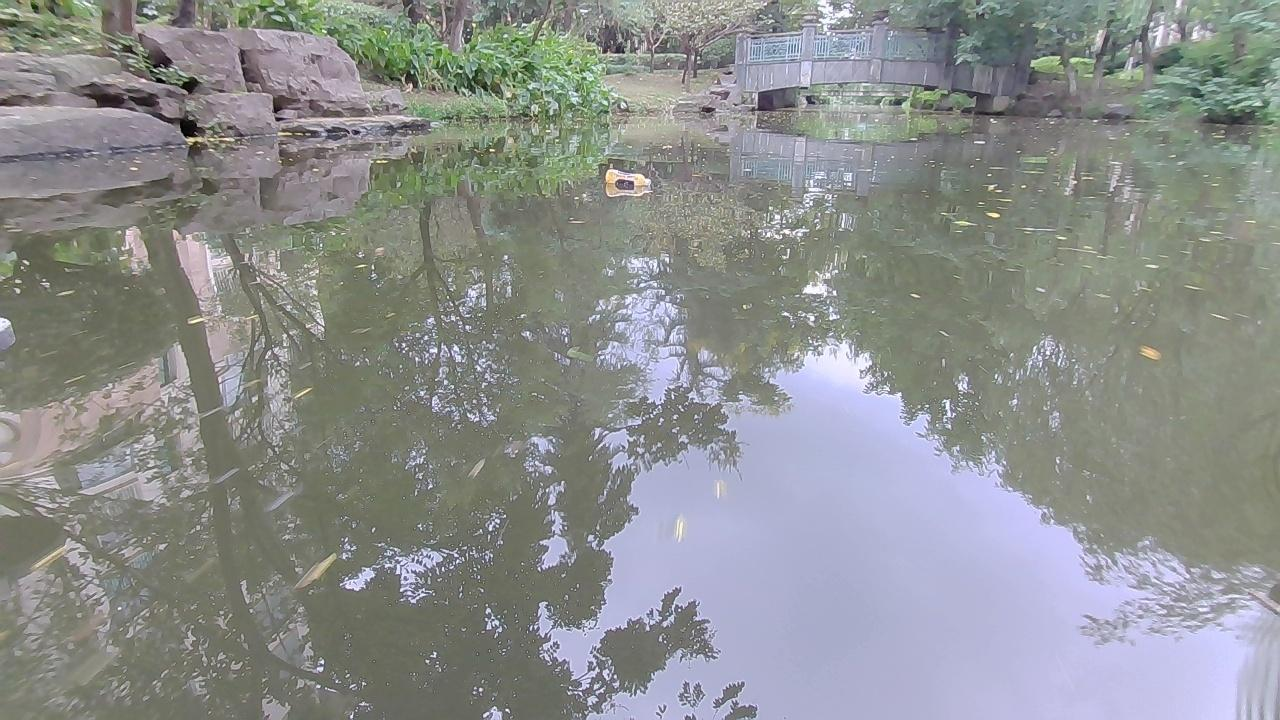bottle: (598, 166, 649, 186)
